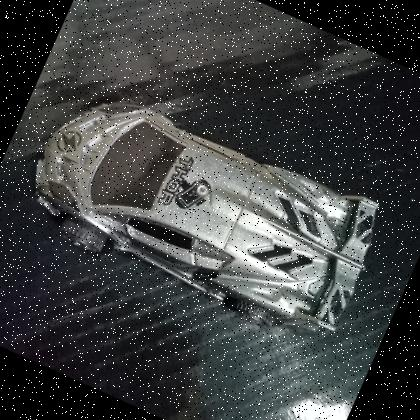Car: (5, 60, 399, 362)
